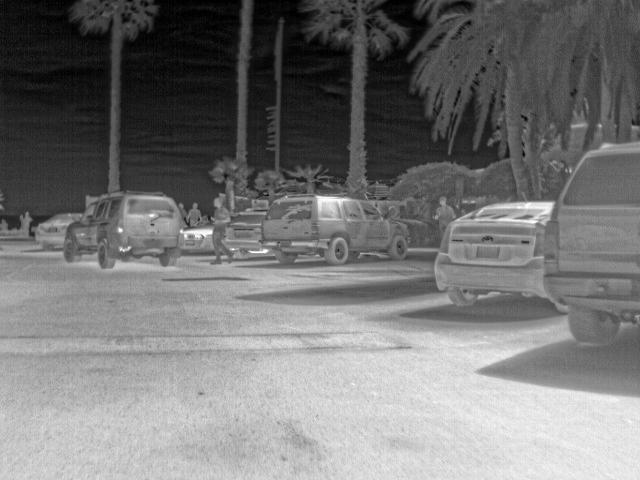car: (541, 140, 639, 345), (431, 198, 566, 312), (258, 193, 413, 265), (62, 189, 182, 270), (232, 208, 266, 258), (36, 213, 83, 249), (180, 226, 211, 255)
person: (209, 196, 233, 265), (432, 195, 458, 238), (188, 200, 201, 224), (19, 210, 32, 232), (177, 200, 188, 210)
